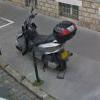Motorcycle: (8, 11, 73, 73)
